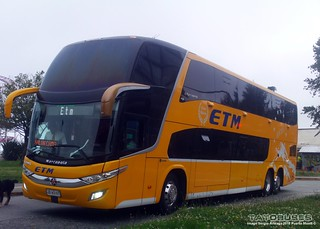bus: (21, 34, 298, 215)
